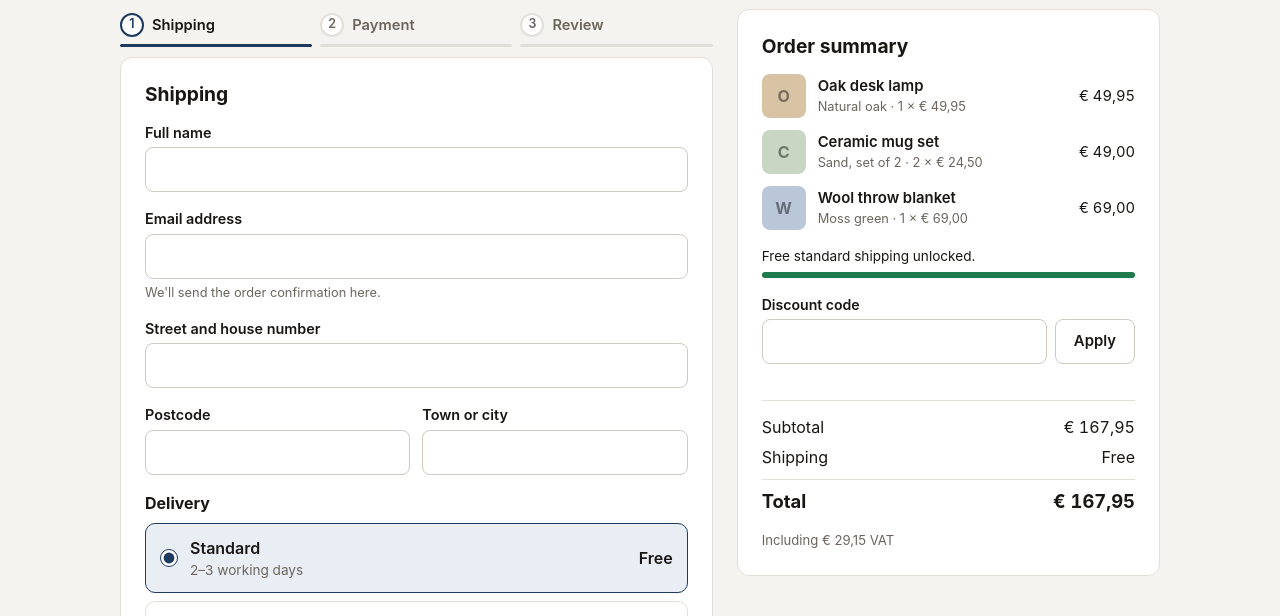
Test: Checkout › keeps entered details when going back
The width and height of the screenshot is (1280, 616).
In the field labelled "Full name": (416, 170) [145, 147, 688, 192], type "Sanne de Vries"
In the field labelled "Email address": (416, 256) [145, 234, 688, 279], type "sanne@example.com"
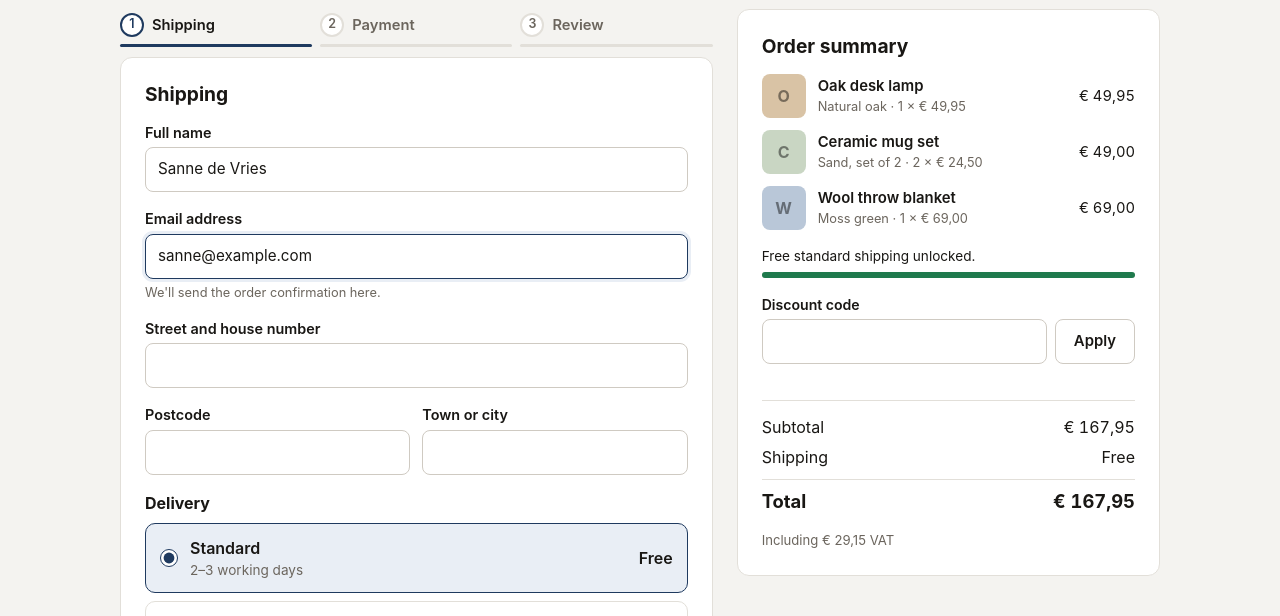
In the field labelled "Street and house number": (416, 366) [145, 343, 688, 388], type "Keizersgracht 12"
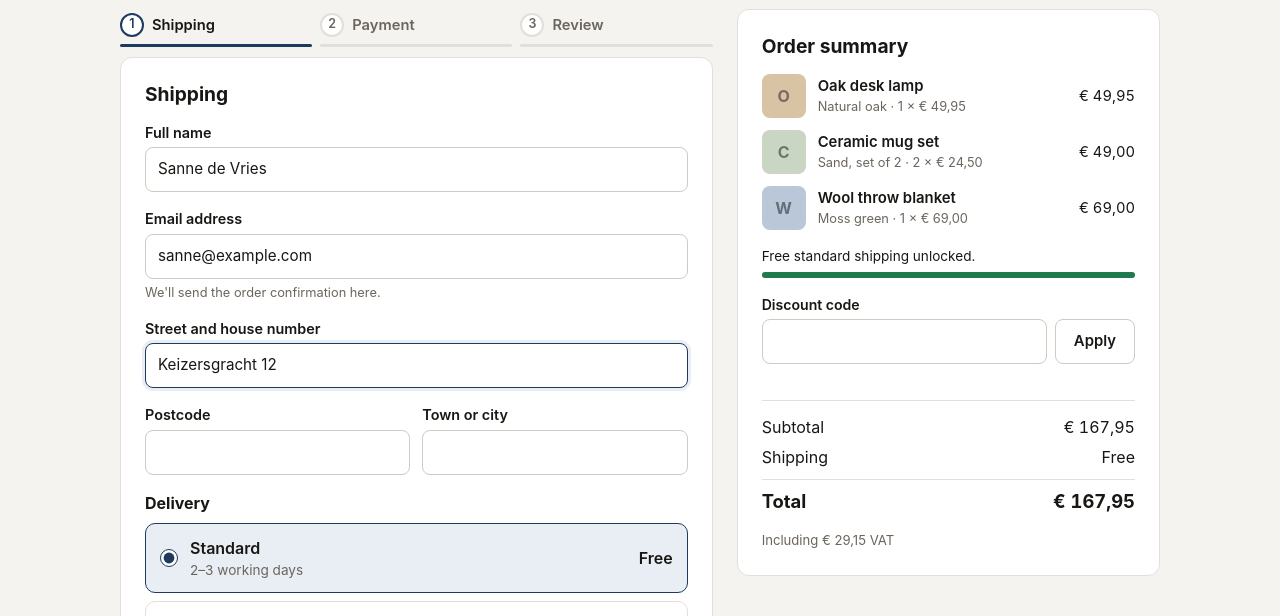
In the field labelled "Postcode": (278, 452) [145, 430, 410, 475], type "1015cs"
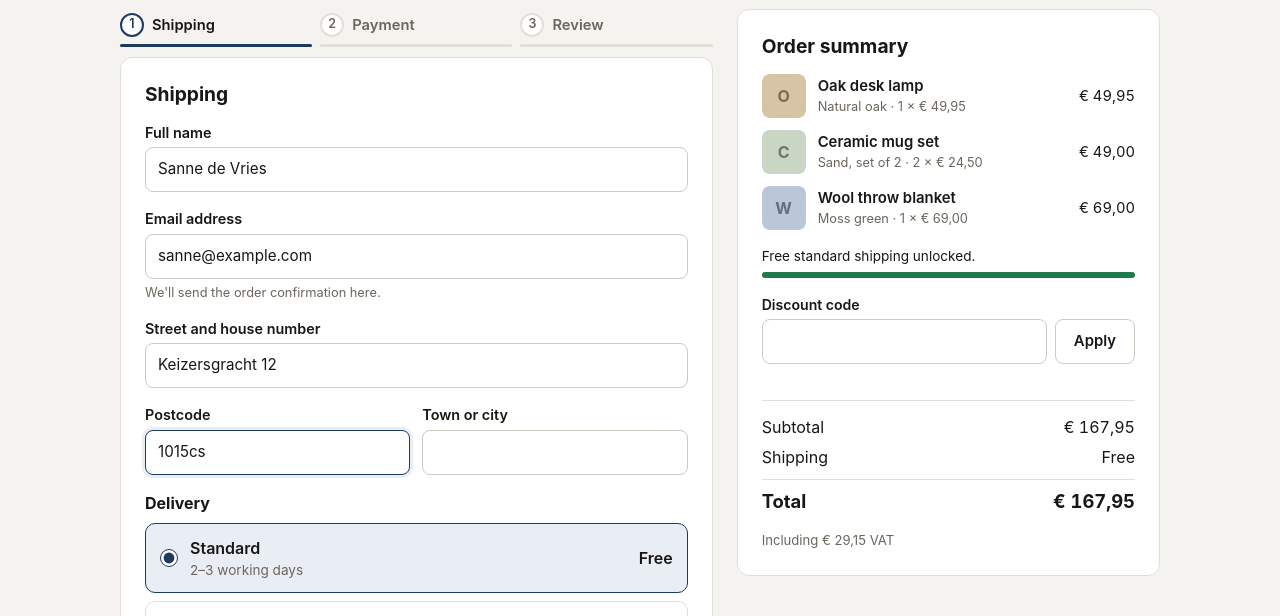
In the field labelled "Town or city": (555, 452) [422, 430, 688, 475], type "Amsterdam"
(page scrolled)
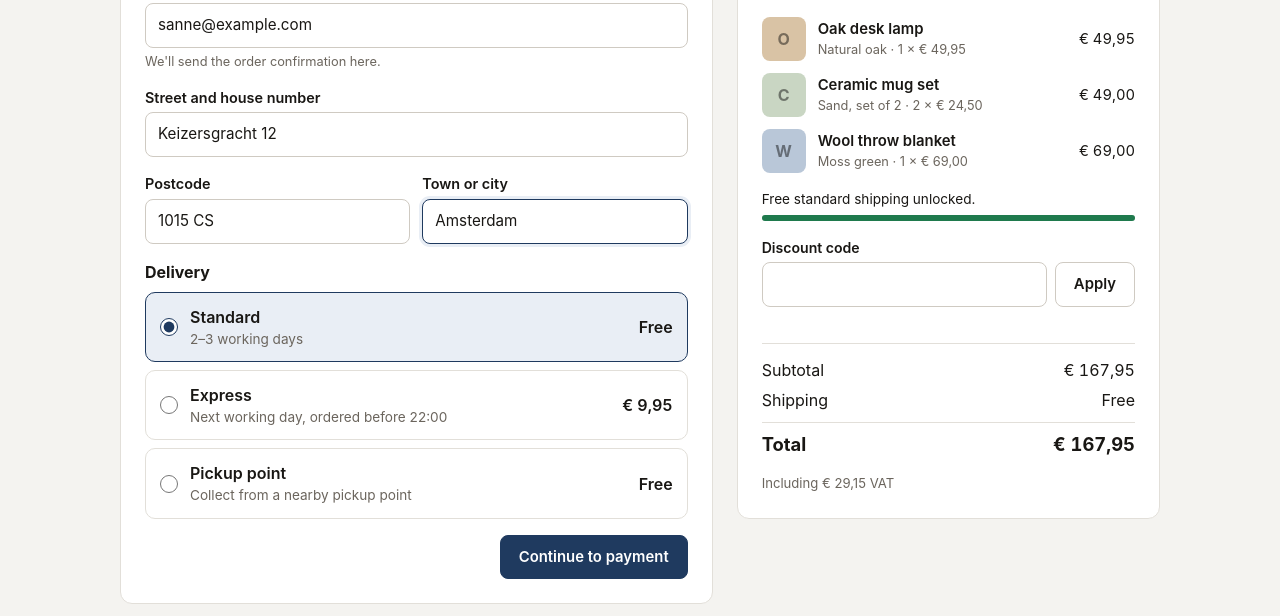
Click the button "Continue to payment": (594, 557) [500, 535, 688, 579]
(page scrolled)
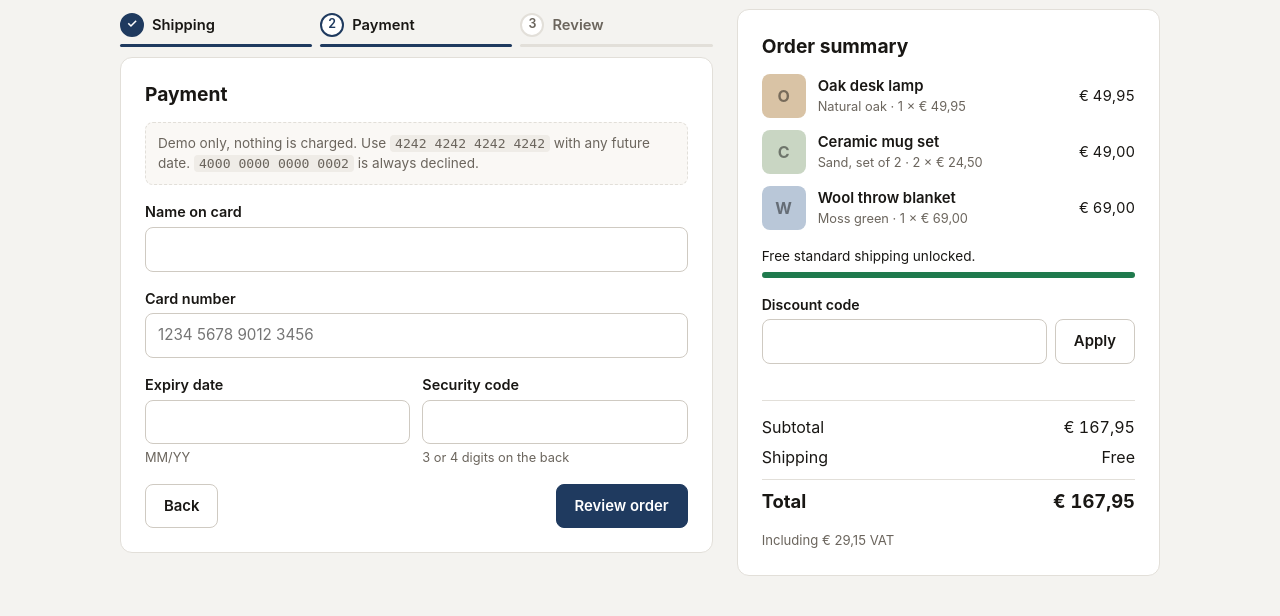
Click the button with aria-label "Go back to Shipping": (167, 25) [120, 9, 215, 41]
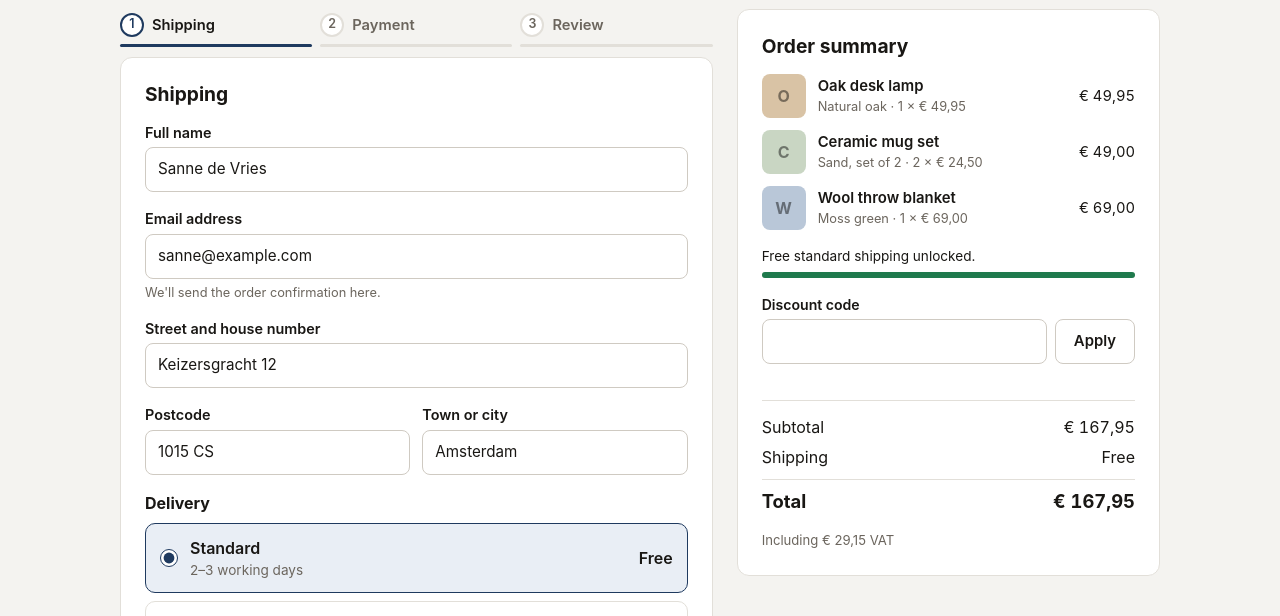
Expected: the field labelled "Full name" holds "Sanne de Vries", [145, 147, 688, 192]
Expected: the field labelled "Town or city" holds "Amsterdam", [422, 430, 688, 475]
